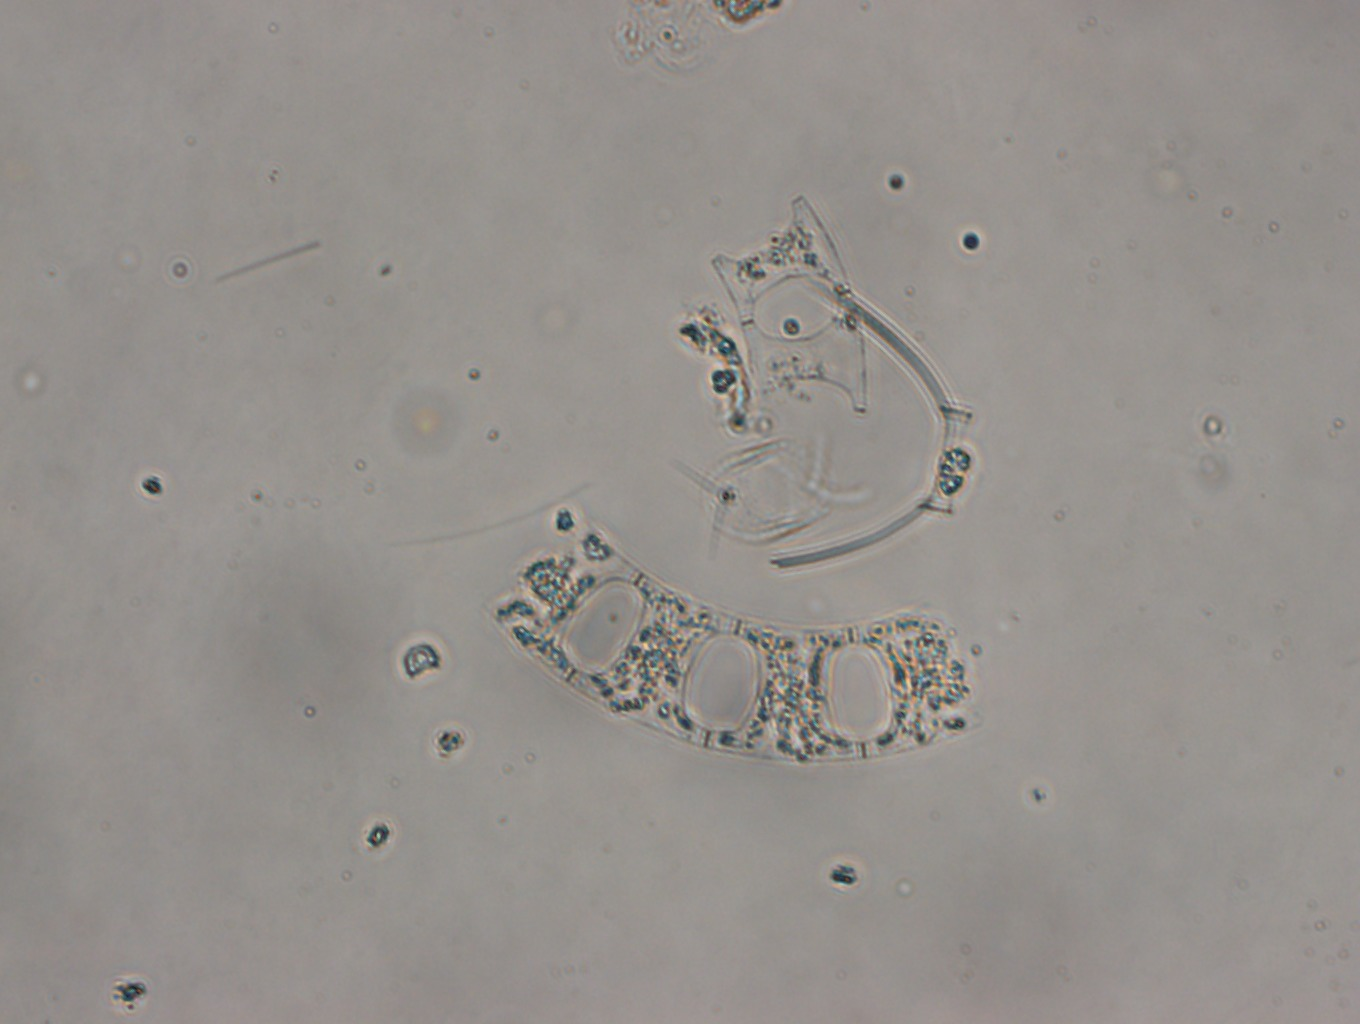chaetoceros: (772, 285, 979, 567)
eucampia: (492, 523, 984, 765), (701, 195, 871, 425)
